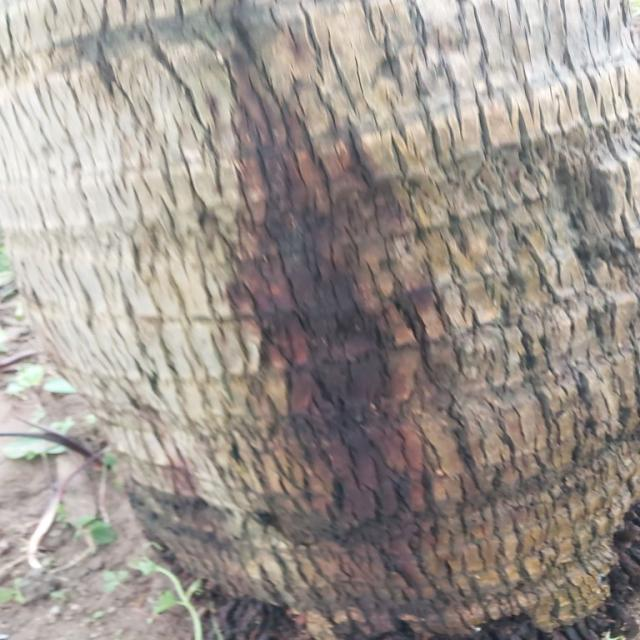stembleeding: (150, 50, 484, 616)
